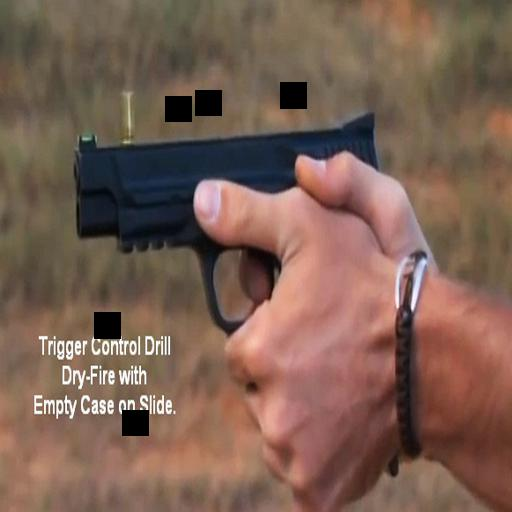Handgun: (66, 92, 390, 353)
